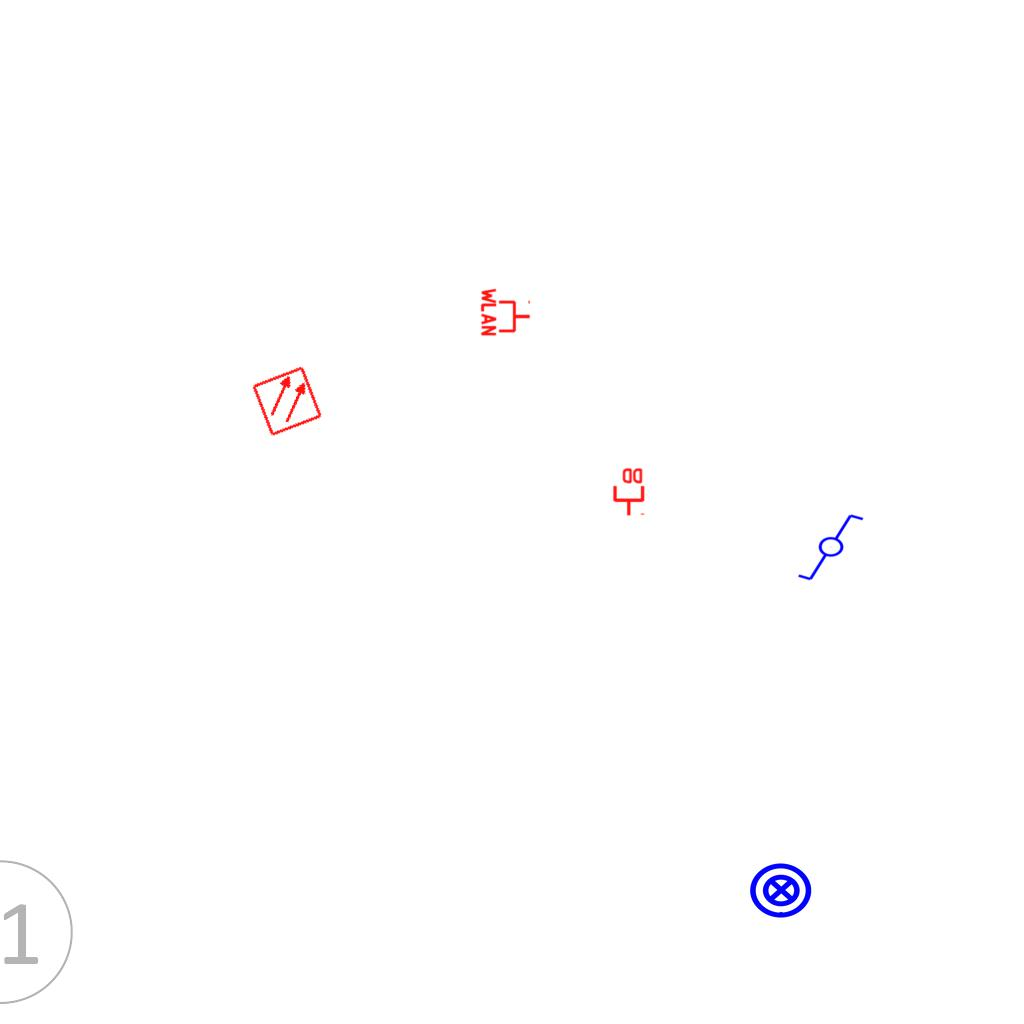Datenanschluss_zweifach: (611, 466, 645, 517)
RMO_Rauchmelder_optischer: (250, 364, 324, 438)
Taster_beleuchtet: (748, 857, 814, 923)
WLAN: (480, 286, 532, 338)
Wechselschalter: (796, 512, 874, 584)
